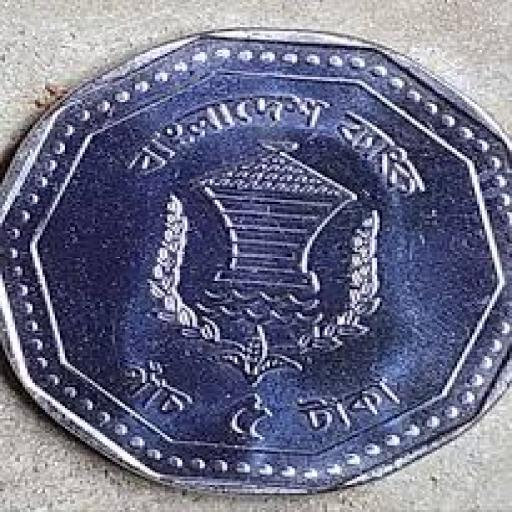5taka: (0, 31, 510, 493)
